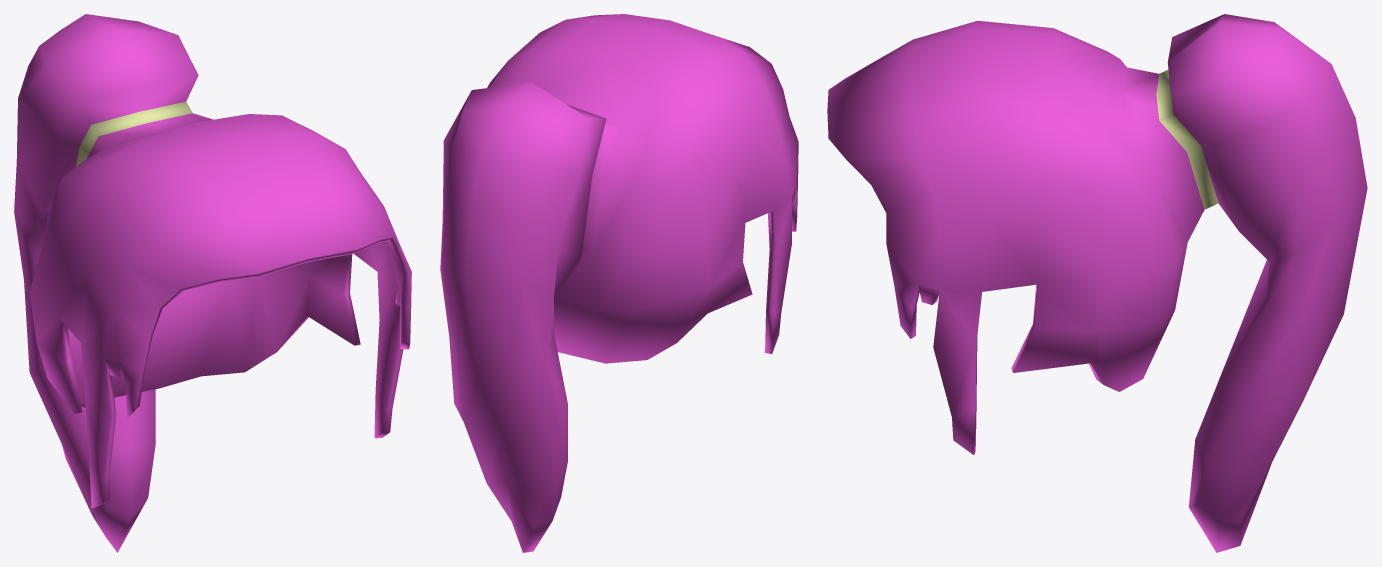
The model's file is character hair 09.fbx.
3 renders of one model, left to right at view 1: azimuth 30°, elevation 25°; view 2: azimuth 150°, elevation 25°; view 3: azimuth 270°, elevation 25°, orthographic. The views are drawn at different scales.
Visible parts, largest first — view 1: hair09; view 2: hair09; view 3: hair09.
Part boxes in pixels (x1,y1,x2,y2): hair09: (14, 14, 411, 552); hair09: (440, 14, 798, 552); hair09: (827, 14, 1367, 552).
Size of the model in its own units: 0.3842 by 0.6312 by 0.5831.
